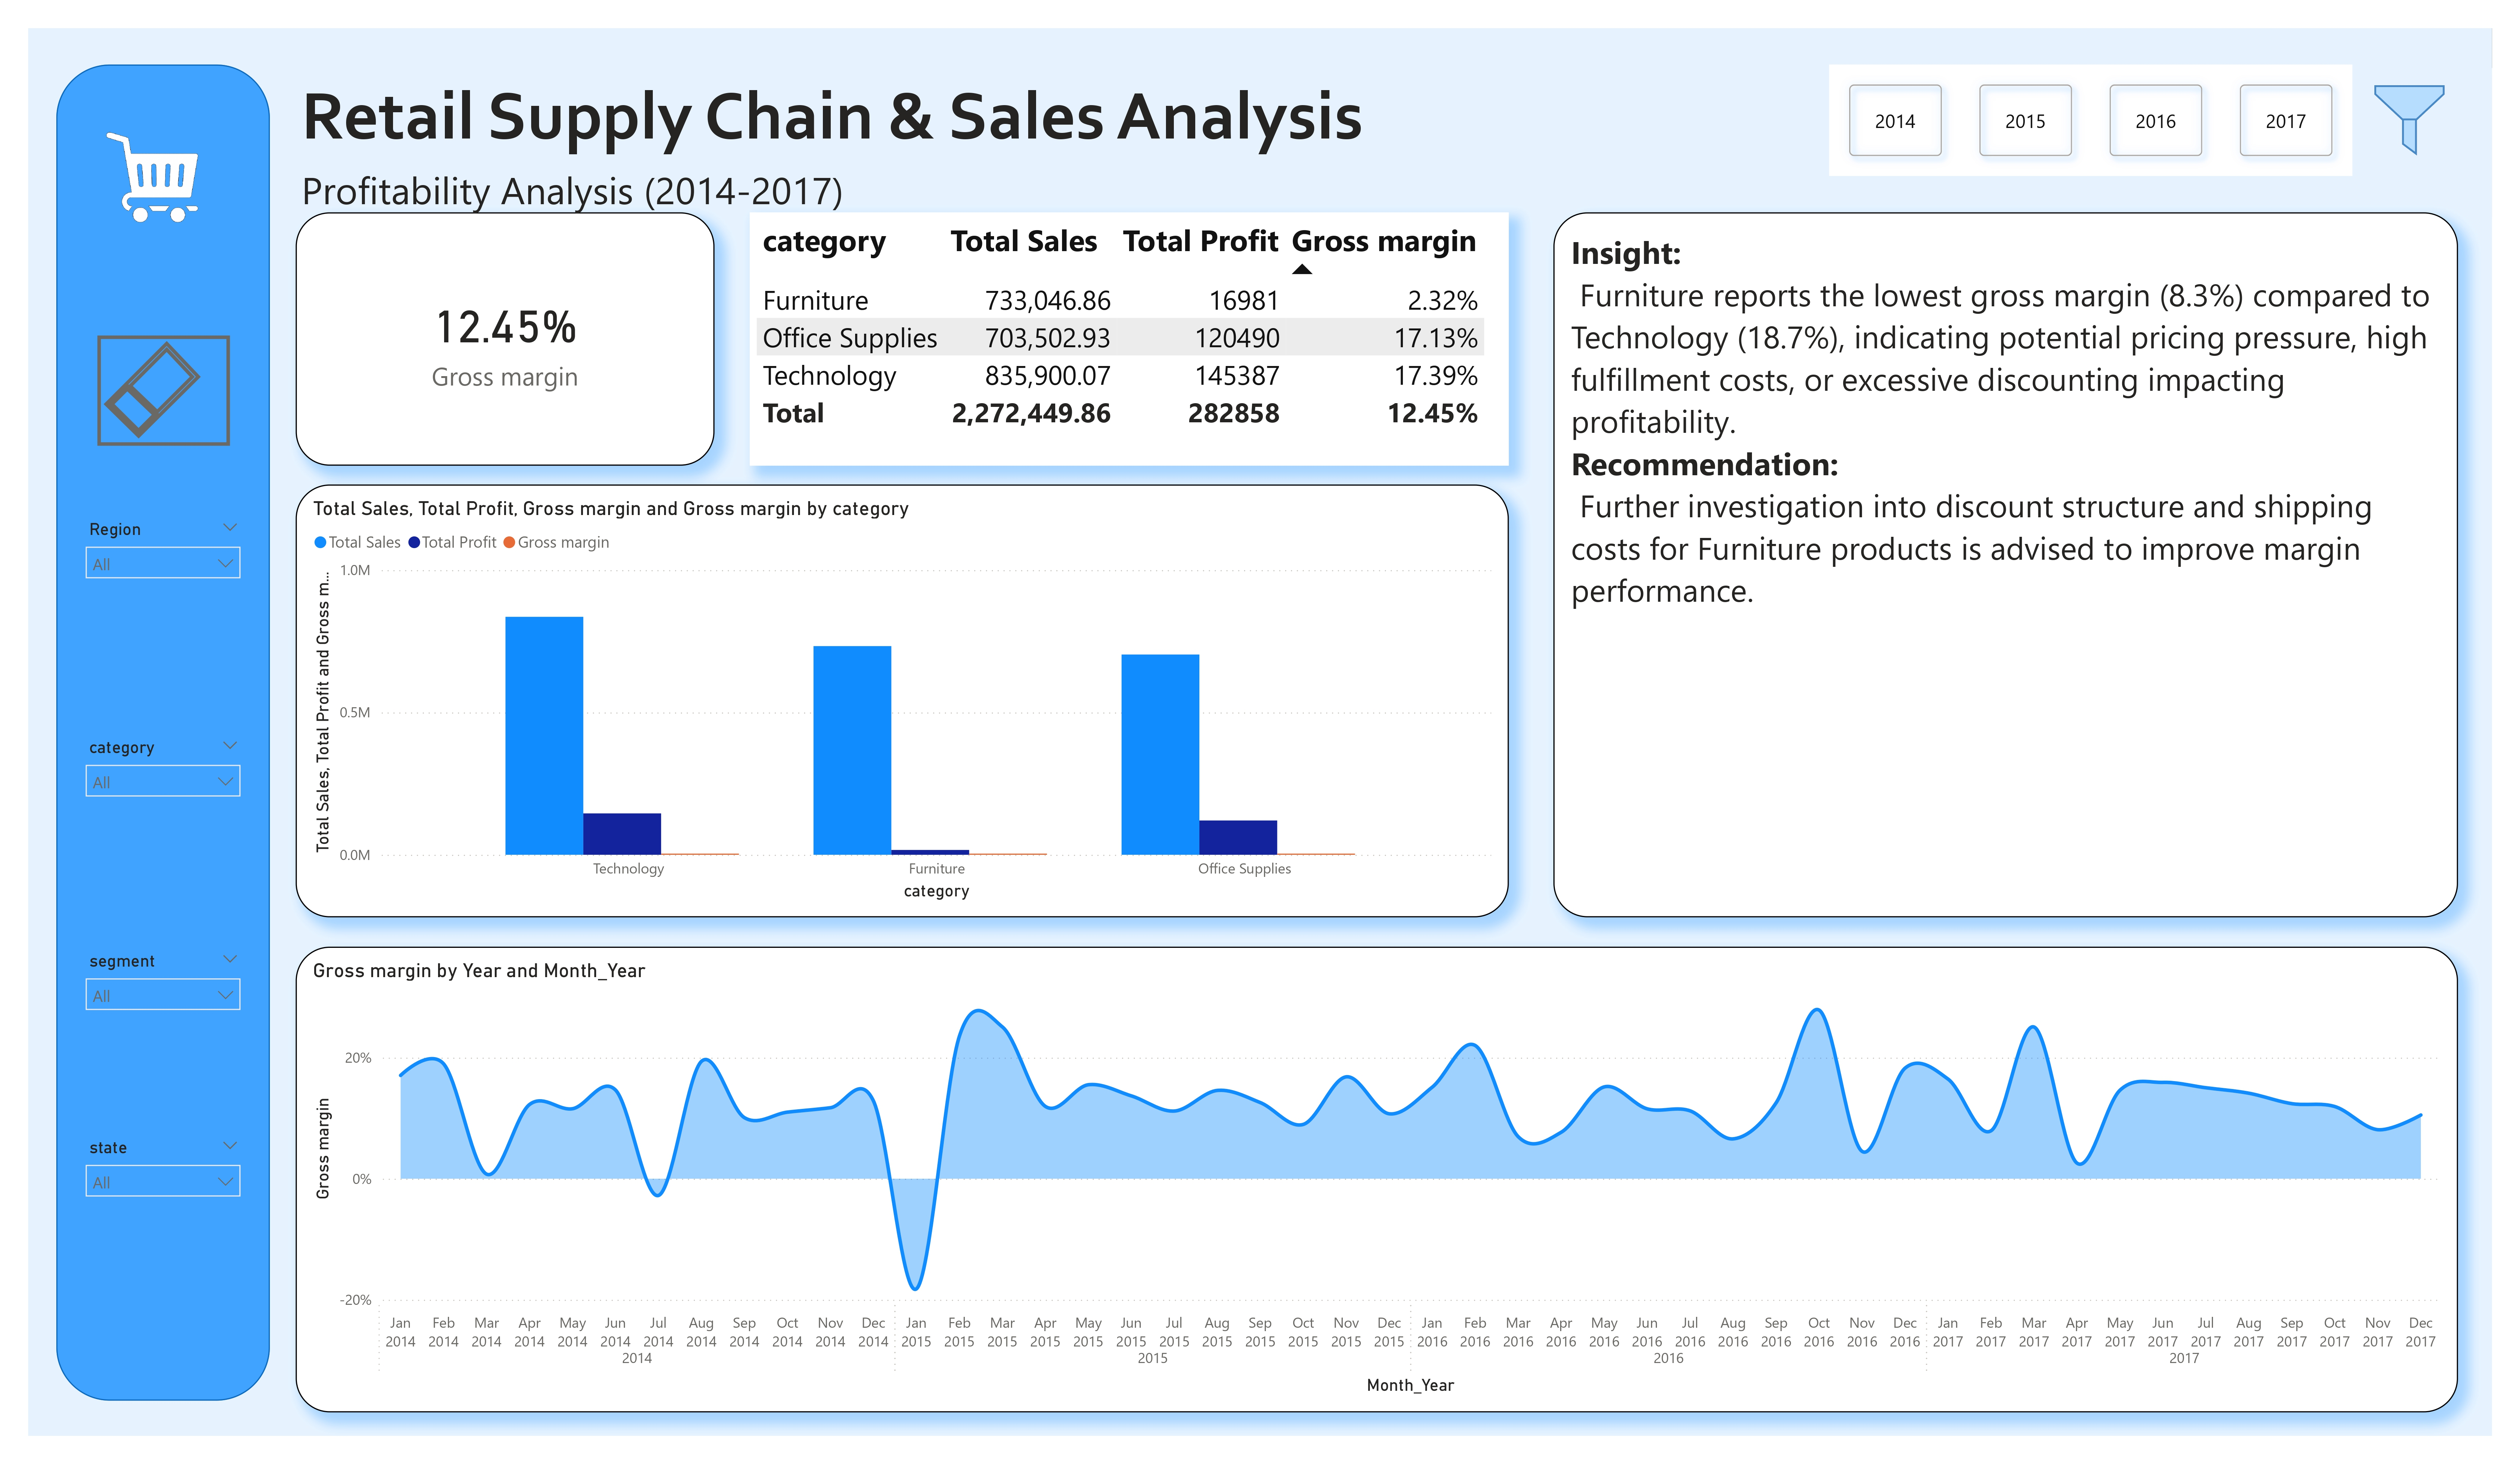

What the dashboard file says about the page in this screenshot:
{"tool":"powerbi","page":{"name":"Page 2","canvas":[2100,1200],"ordinal":1},"visuals":[{"type":"card","fields":{"Values":["superstore_sales.Gross margin"]},"box":[228.3,156.9,356.7,216],"z":0},{"type":"lineChart","fields":{"Category":["superstore_sales.order_date.Variation.Date Hierarchy.Year","superstore_sales.Month_Year"],"Y":["superstore_sales.Gross margin"]},"box":[228.3,782.6,1842.4,397.4],"z":1000},{"type":"clusteredColumnChart","fields":{"Category":["superstore_sales.category"],"Y":["superstore_sales.Total Sales","superstore_sales.Total Profit","superstore_sales.Gross margin"]},"box":[228.3,389.3,1033.3,368.9],"z":2000},{"type":"tableEx","fields":{"Values":["superstore_sales.category","superstore_sales.Total Sales","superstore_sales.Total Profit","superstore_sales.Gross margin"]},"box":[615.5,156.9,646.1,216],"z":3000},{"type":"textbox","box":[1300.3,156.9,770.4,601.2],"z":4000},{"type":"shape","box":[24.5,30.6,181.4,1139.3],"z":5000},{"type":"image","box":[2.8,33.3,208.3,186.1],"z":6000},{"type":"actionButton","title":"CLEAR SLICERS","box":[58.7,262.1,113.4,93.9],"z":7000},{"type":"slicer","fields":{"Values":["superstore_sales.region"]},"box":[39.1,414.1,151.8,59.8],"z":8000},{"type":"slicer","fields":{"Values":["superstore_sales.category"]},"box":[39.1,600.5,151.8,59.8],"z":9000},{"type":"slicer","fields":{"Values":["superstore_sales.segment"]},"box":[39.1,782.2,151.8,59.8],"z":10000},{"type":"slicer","fields":{"Values":["superstore_sales.state"]},"box":[39.1,941,151.8,59.8],"z":11000},{"type":"textbox","box":[228.3,32.6,966,93.8],"z":12000},{"type":"textbox","box":[228.3,110.1,711.3,73.4],"z":13000},{"type":"advancedSlicerVisual","fields":{"Values":["superstore_sales.order_date.Variation.Date Hierarchy.Year"]},"box":[1534.7,30.6,446.3,95.8],"z":14000},{"type":"image","box":[1987.1,46.9,83.6,63.2],"z":15000}]}

Visuals, with their boxes in screenshot pixels (x1, y1, x2, y2):
card - superstore_sales.Gross margin: BBox(296, 212, 714, 465)
lineChart - superstore_sales.order_date.Variation.Date Hierarchy.Year x superstore_sales.Month_Year: BBox(296, 946, 2457, 1412)
clusteredColumnChart - superstore_sales.category x superstore_sales.Total Sales: BBox(296, 485, 1508, 917)
tableEx - superstore_sales.category x superstore_sales.Total Sales: BBox(750, 212, 1508, 465)
textbox: BBox(1554, 212, 2457, 917)
shape: BBox(57, 64, 270, 1401)
image: BBox(32, 67, 276, 286)
"CLEAR SLICERS" actionButton: BBox(97, 336, 230, 446)
slicer - superstore_sales.region: BBox(74, 514, 252, 584)
slicer - superstore_sales.category: BBox(74, 733, 252, 803)
slicer - superstore_sales.segment: BBox(74, 946, 252, 1016)
slicer - superstore_sales.state: BBox(74, 1132, 252, 1202)
textbox: BBox(296, 66, 1429, 176)
textbox: BBox(296, 157, 1130, 243)
advancedSlicerVisual - superstore_sales.order_date.Variation.Date Hierarchy.Year: BBox(1829, 64, 2352, 176)
image: BBox(2359, 83, 2457, 157)
